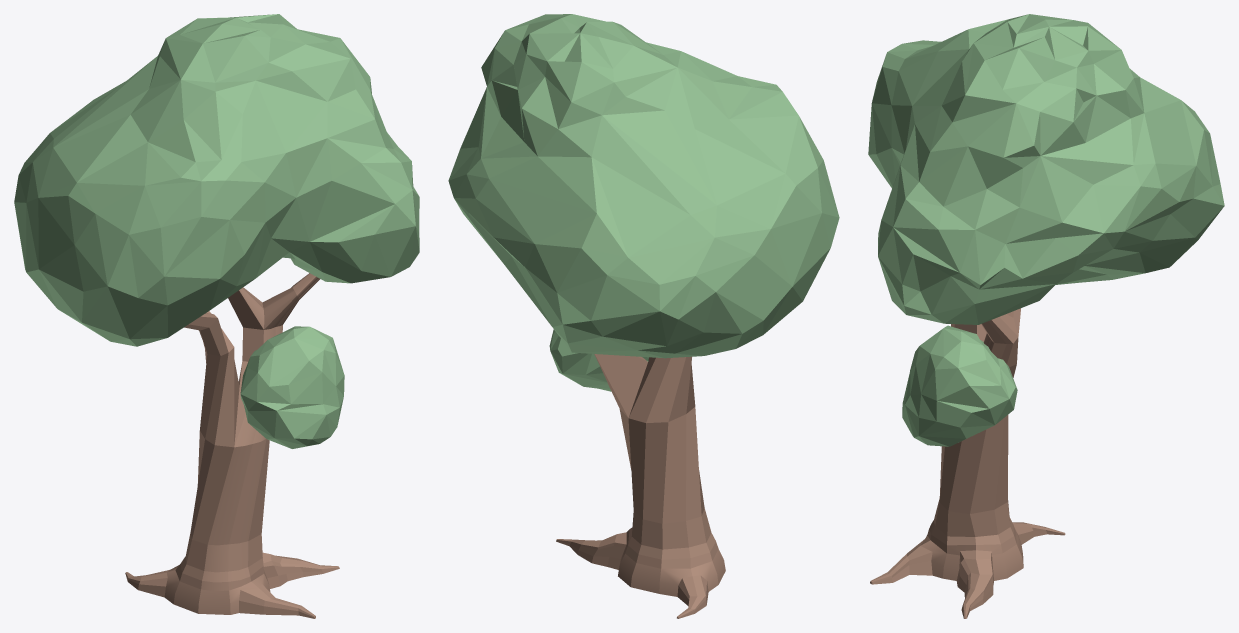
The model's file is Oak.fbx.
3 renders of one model, left to right at view 1: azimuth 30°, elevation 25°; view 2: azimuth 150°, elevation 25°; view 3: azimuth 270°, elevation 25°, orthographic. The views are drawn at different scales.
Parts seen in each view (by area): view 1: pasted__pCylinder1; view 2: pasted__pCylinder1; view 3: pasted__pCylinder1.
Part boxes in pixels (x1,y1,x2,y2): pasted__pCylinder1: (14, 14, 419, 618); pasted__pCylinder1: (448, 14, 839, 618); pasted__pCylinder1: (868, 14, 1224, 618).
Bounding box in the file's own units: 4.12 × 6.29 × 3.63.
